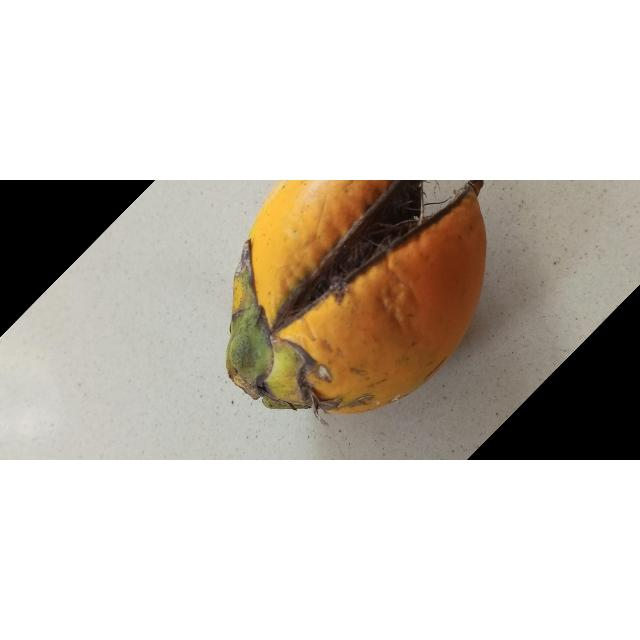damaged: (225, 180, 488, 416)
